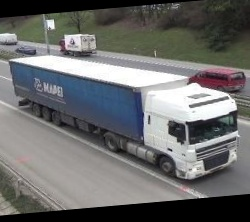truck: (9, 40, 243, 195), (187, 63, 247, 98), (56, 30, 98, 59)
